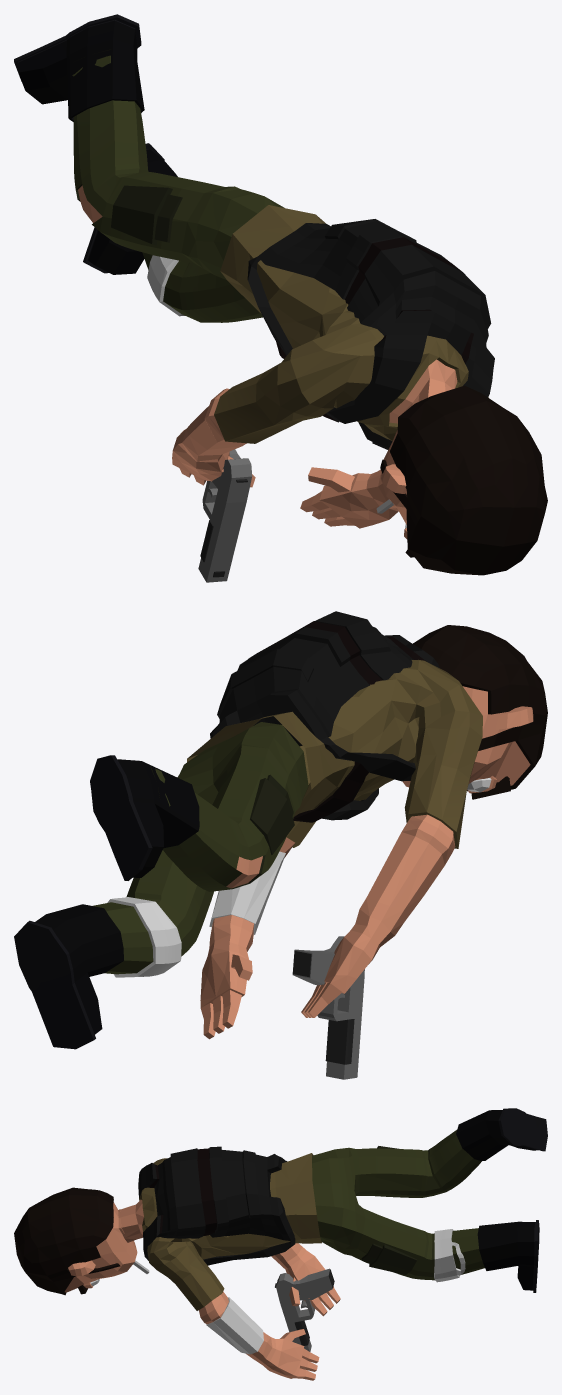
The model's file is frame_0066.obj.
3 views of the same model, one above another, from view 1: azimuth 30°, elevation 25°; view 2: azimuth 150°, elevation 25°; view 3: azimuth 270°, elevation 25° (orthographic). The views are drawn at different scales.
Parts seen in each view (by area): view 1: Body, Gun; view 2: Body, Gun; view 3: Body, Gun.
Boxes of the visible parts, <box> form: Body: <box>14,14,547,575</box>; Gun: <box>198,449,252,582</box>; Body: <box>14,611,547,1049</box>; Gun: <box>292,936,364,1079</box>; Body: <box>14,1108,547,1380</box>; Gun: <box>275,1268,334,1351</box>.
Size of the model in its own units: 1.31 by 2.27 by 4.14.
